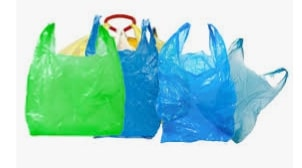kantong: (24, 22, 125, 137), (84, 14, 159, 139), (158, 21, 232, 143), (213, 37, 289, 144)
